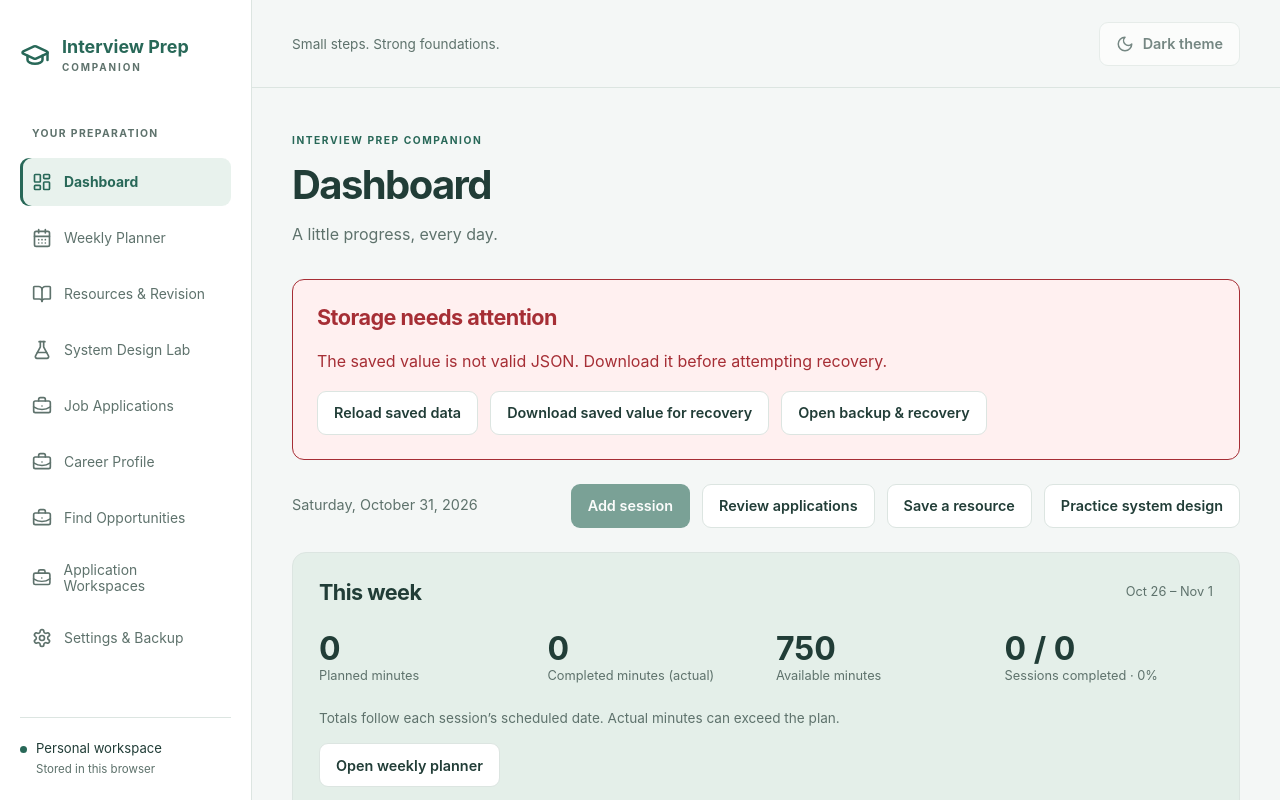
application shell › preserves recovery controls and keeps blocked preferences disabled
The image size is (1280, 800).
Check: the message shows "not valid JSON", box [317, 350, 887, 370]
Check: the button "Download saved value for recovery" is shown, box [490, 391, 769, 435]
What coordinates should you click on to do the following:
click the button "Reload saved data"
I would click on:
 (398, 413)
Its box is [317, 391, 478, 435].
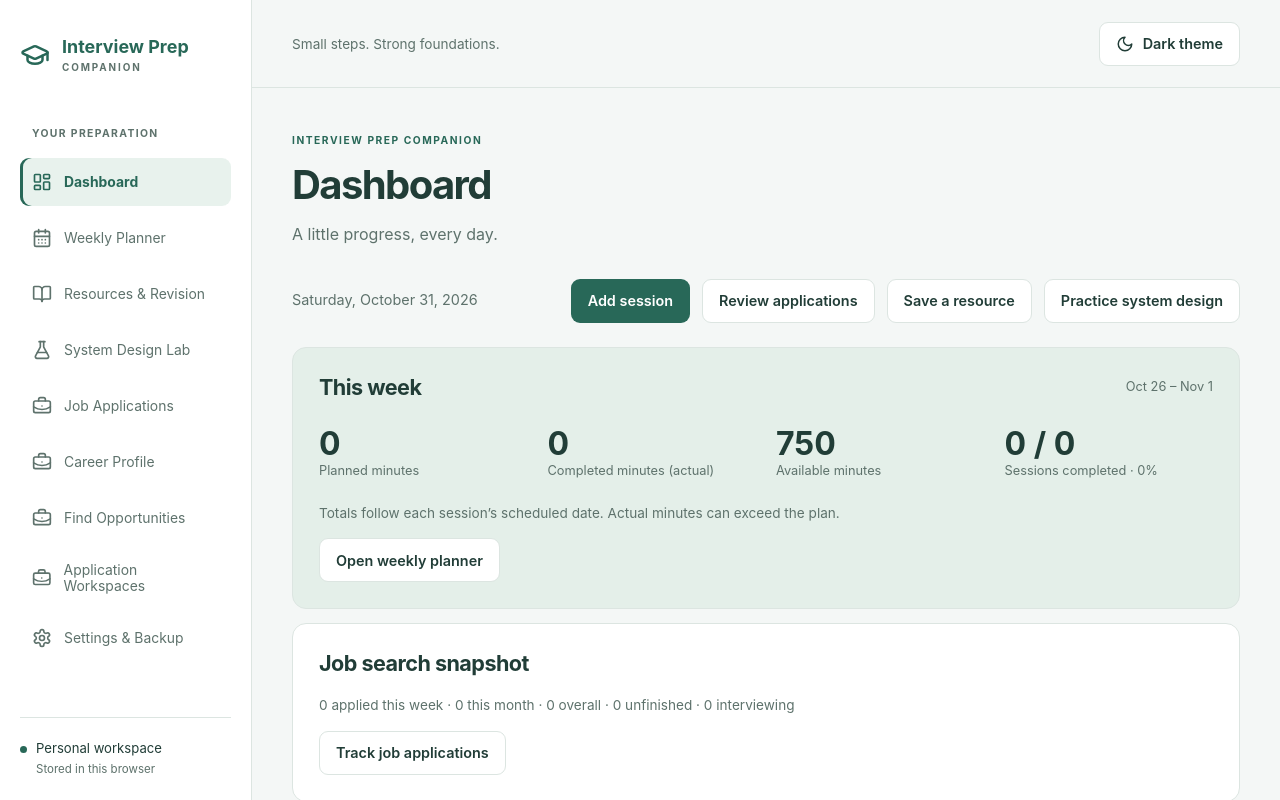
Check: the message is gone
Check: the button with aria-label "Switch to dark theme" is enabled, box [1099, 22, 1240, 66]
